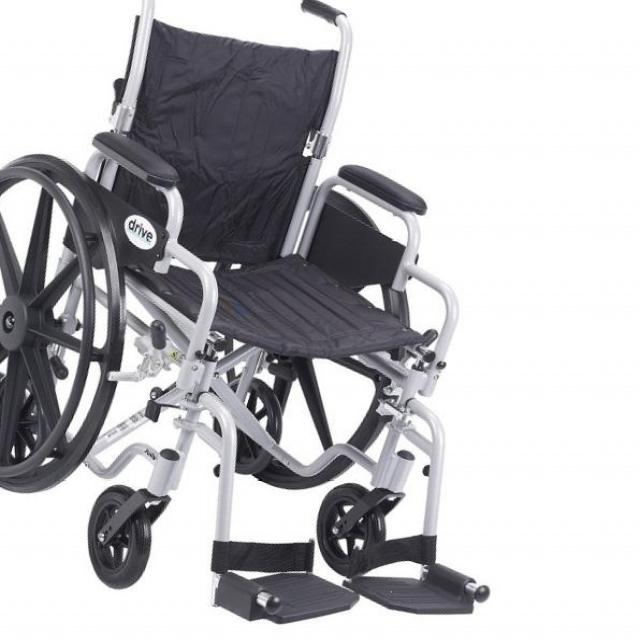wheelchair: (2, 0, 504, 639)
